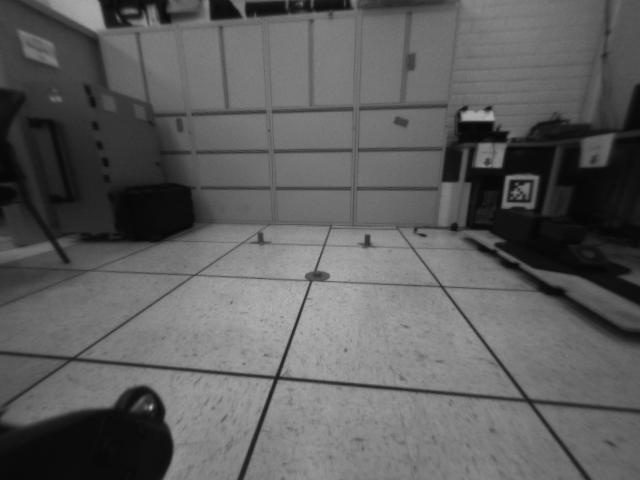X: (250, 231, 273, 247), (356, 234, 377, 248)
